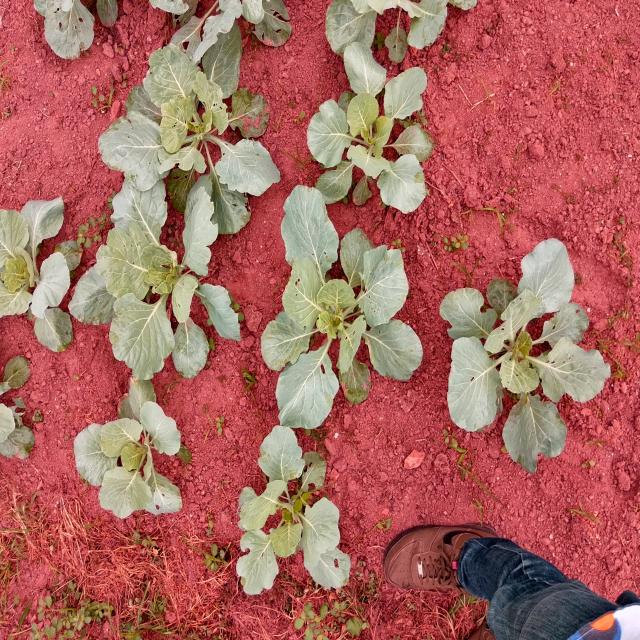Cabbage: (94, 29, 288, 265), (261, 168, 435, 430), (85, 160, 256, 388), (436, 247, 613, 467), (230, 415, 354, 599), (305, 48, 437, 216), (72, 396, 196, 524), (0, 185, 76, 357), (324, 0, 477, 56), (134, 0, 304, 48), (13, 0, 135, 61), (0, 356, 46, 501)
